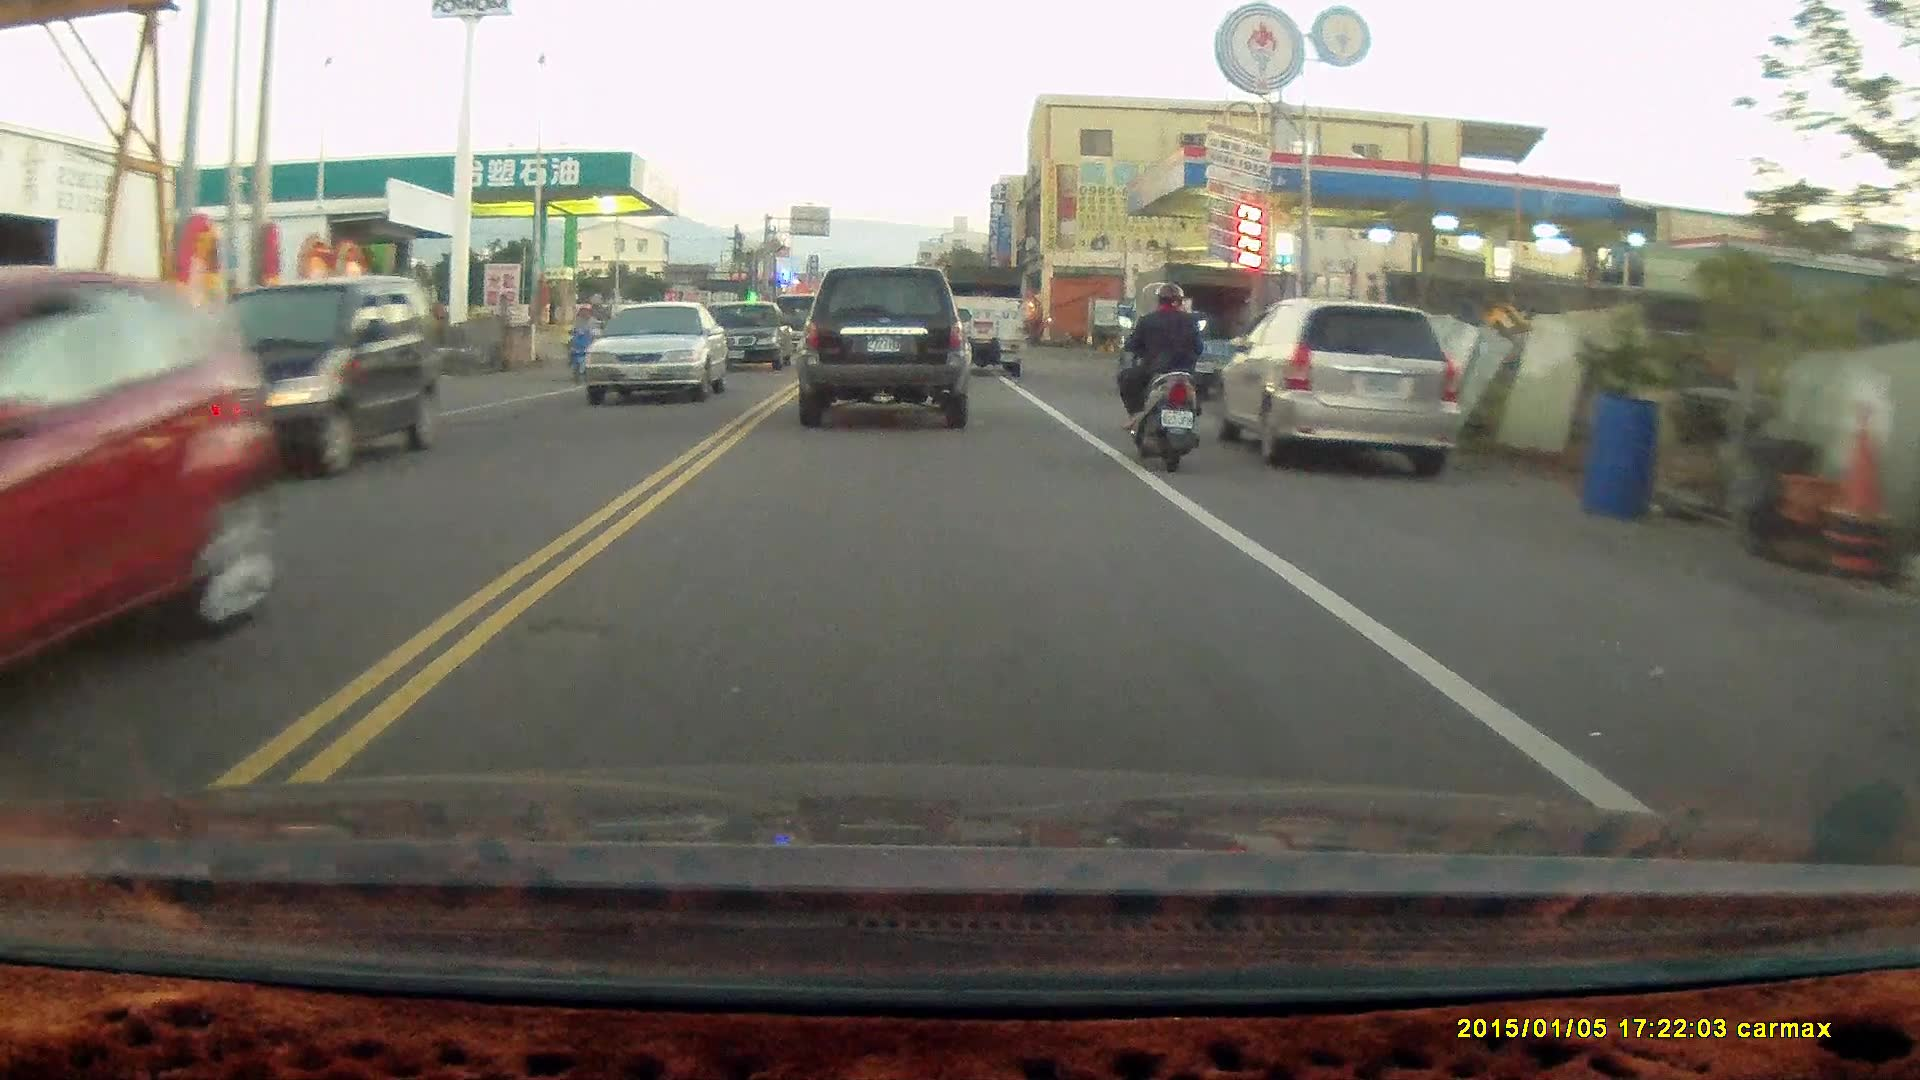rider: (1112, 278, 1209, 467), (561, 300, 610, 385)
vehicle: (1, 269, 283, 734), (129, 274, 450, 484), (1223, 295, 1466, 479), (794, 266, 972, 430), (1115, 258, 1257, 391), (580, 299, 732, 404), (938, 260, 1024, 376), (708, 297, 795, 369)
